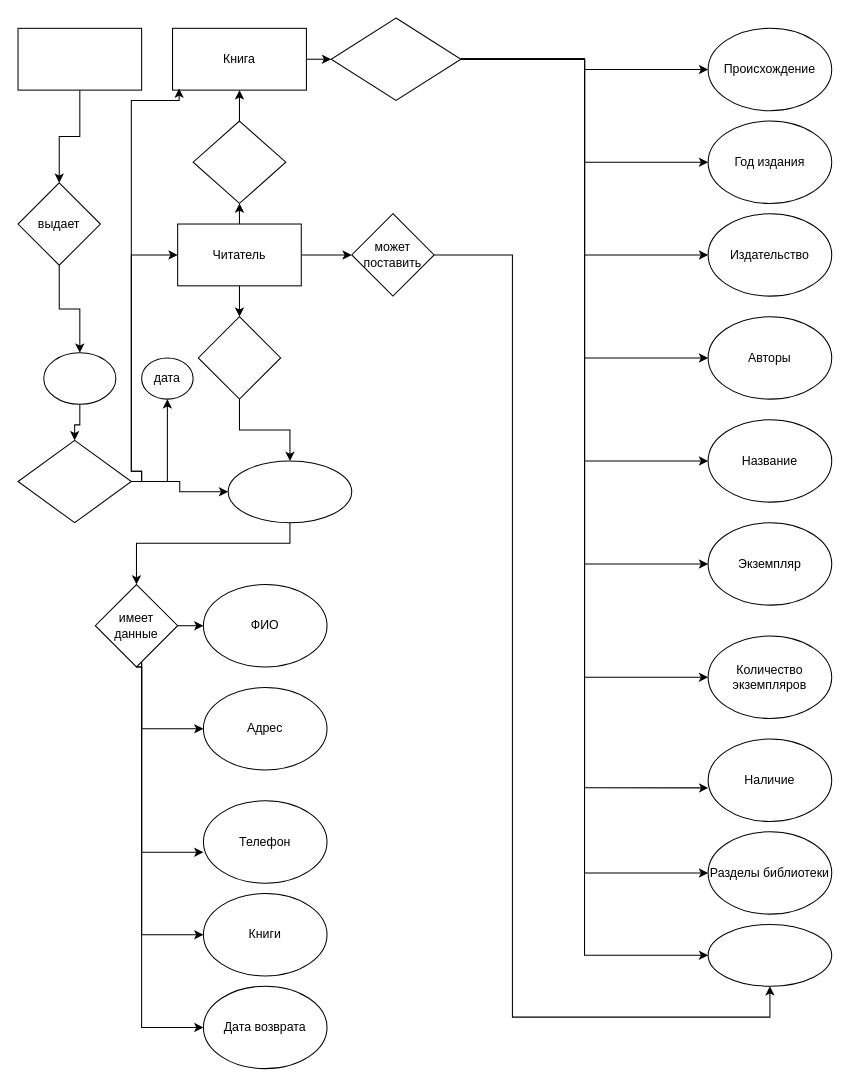
Some shapes in this 850 by 1087 pixel diagram are drawn without their labels. The centre of each missing label's shape, as x and y in pixels:
имеет: (239,357)
имеющую информацию о: (74,481)
может взять или подарить: (239,161)
Отчёт: (79,58)
Оценка: (769,954)
Статистика: (79,378)
характеризуется: (395,58)
Читательский билет: (289,491)
